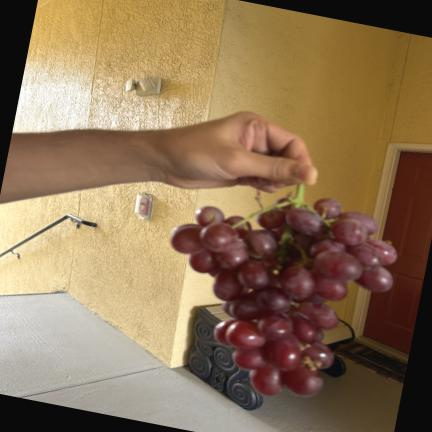grape_cluster: (171, 185, 397, 396)
